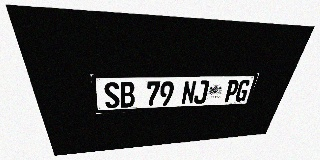7: (146, 81, 160, 106)
9: (159, 81, 175, 106)
B: (119, 82, 135, 108)
G: (234, 80, 252, 102)
J: (193, 80, 210, 104)
N: (181, 81, 197, 104)
P: (223, 80, 240, 102)
S: (103, 82, 120, 108)
